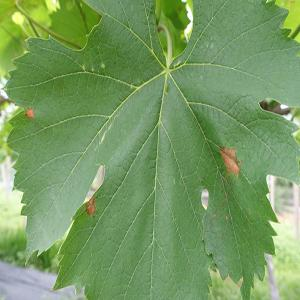Folha: (3, 0, 299, 299)
Fungo: (219, 144, 243, 182), (84, 194, 95, 217), (25, 106, 34, 118)
